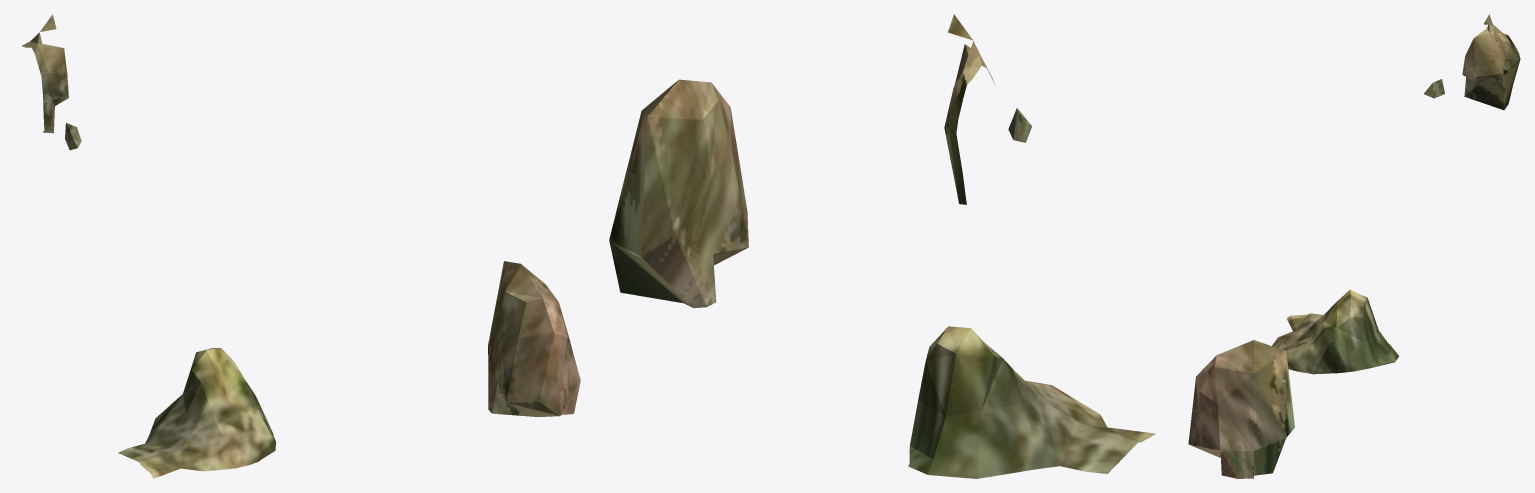
3 renders of one model, left to right at view 1: azimuth 30°, elevation 25°; view 2: azimuth 150°, elevation 25°; view 3: azimuth 270°, elevation 25°, orthographic. The views are drawn at different scales.
Bounding box in the file's own units: 2.12 × 1.93 × 1.85.
Materials: 1 (1 with a texture image).
